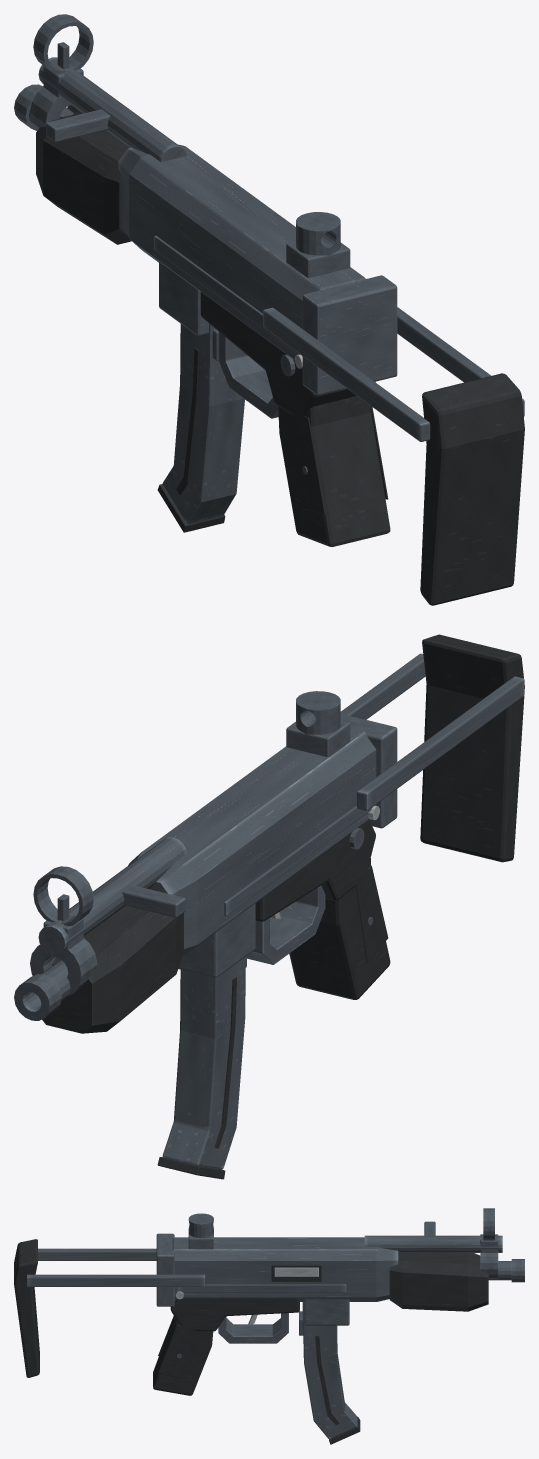
3 views of the same model, one above another, from view 1: azimuth 30°, elevation 25°; view 2: azimuth 150°, elevation 25°; view 3: azimuth 270°, elevation 25° (orthographic). The views are drawn at different scales.
Visible parts, largest first — view 1: mp5_Body, mp5_Magazine, mp5_ChargingHandle; view 2: mp5_Body, mp5_Magazine, mp5_ChargingHandle; view 3: mp5_Body, mp5_Magazine, mp5_Bolt.
Part boxes in pixels (x1,y1,x2,y2): mp5_Body: [14, 14, 524, 605]; mp5_Magazine: [157, 323, 244, 532]; mp5_ChargingHandle: [46, 109, 109, 142]; mp5_Body: [14, 634, 524, 1033]; mp5_Magazine: [157, 956, 245, 1179]; mp5_ChargingHandle: [122, 884, 185, 917]; mp5_Body: [14, 1208, 524, 1395]; mp5_Magazine: [302, 1302, 360, 1444]; mp5_Bolt: [274, 1267, 318, 1276].
Bounding box in the file's own units: 0.151 × 0.4966 × 1.
3 materials, 3 textured.
